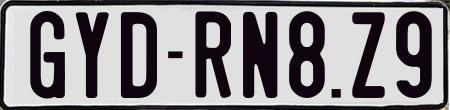8: (286, 8, 322, 100)
9: (395, 8, 436, 98)
D: (121, 11, 159, 98)
G: (28, 11, 64, 100)
N: (241, 10, 281, 97)
R: (194, 10, 236, 101)
Y: (76, 11, 114, 97)
Z: (349, 11, 384, 100)
